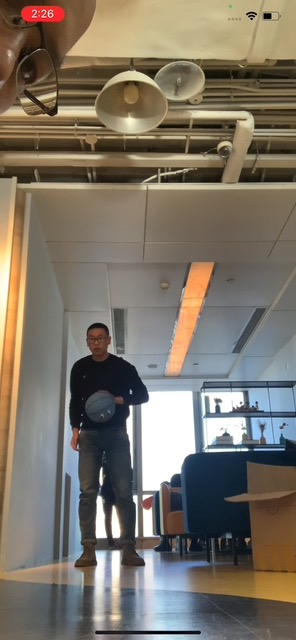ball: (85, 390, 116, 421)
